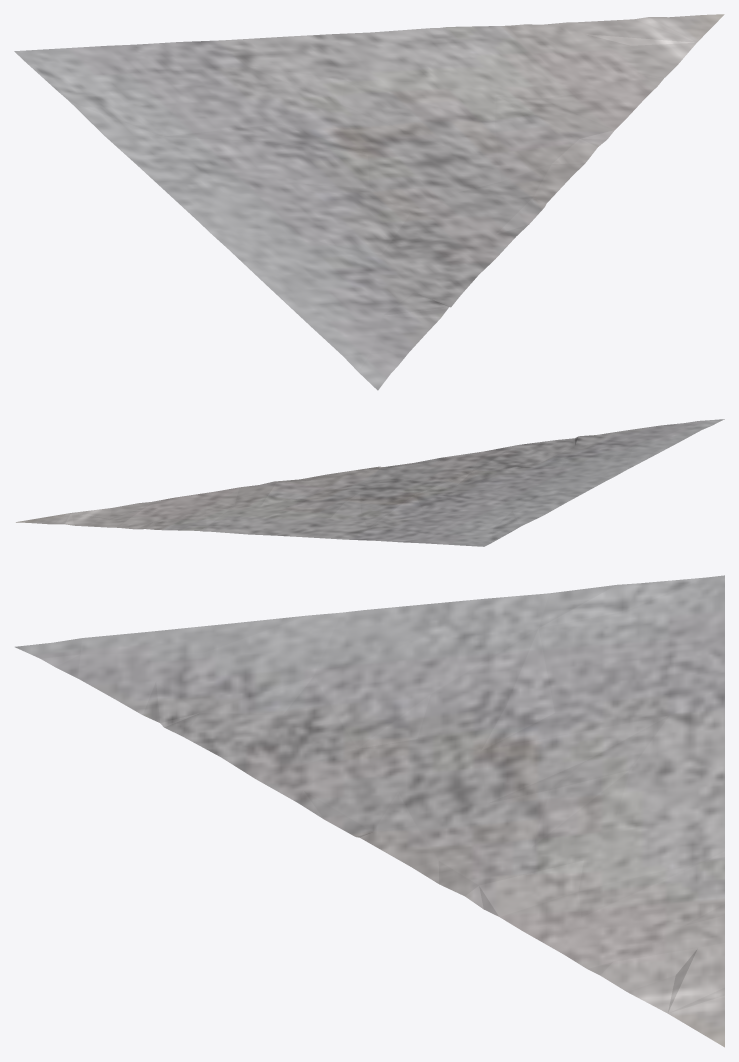
3 views of the same model, one above another, from view 1: azimuth 30°, elevation 25°; view 2: azimuth 150°, elevation 25°; view 3: azimuth 270°, elevation 25° (orthographic). The views are drawn at different scales.
Size of the model in its own units: 2.53 by 0.4637 by 2.24.
1 material, 1 textured.
